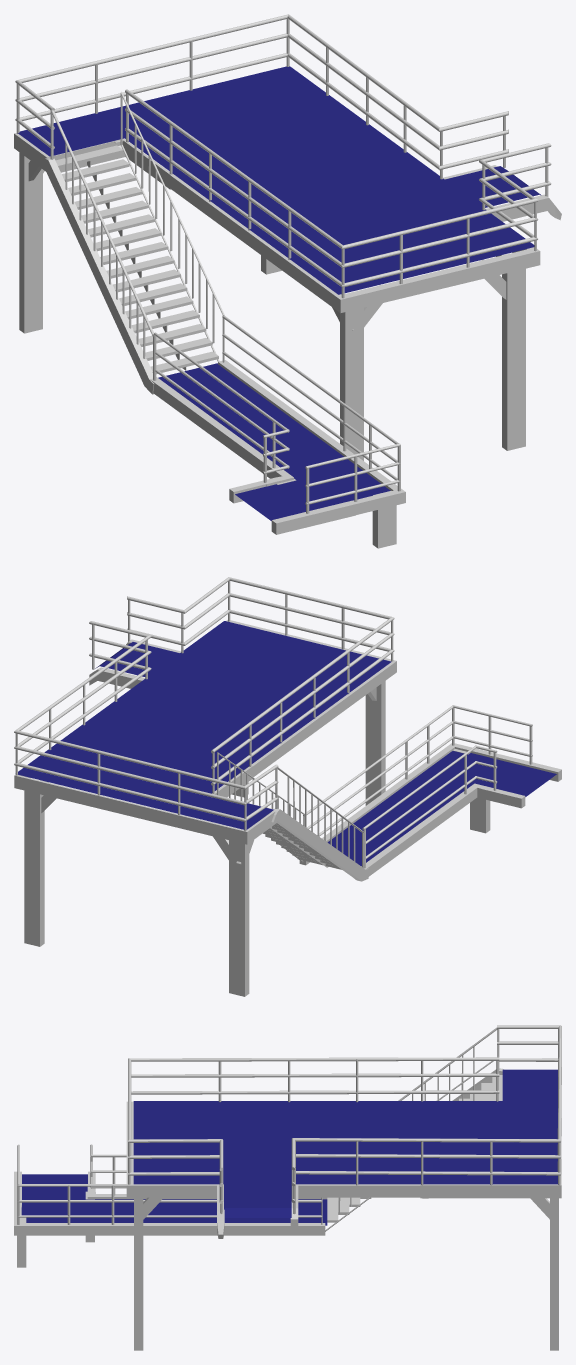
File: Stairs_platform_v2.FBX
3 views of the same model, one above another, from view 1: azimuth 30°, elevation 25°; view 2: azimuth 150°, elevation 25°; view 3: azimuth 270°, elevation 25° (orthographic). The views are drawn at different scales.
Parts seen in each view (by area): view 1: Group001, Line13128; view 2: Line13128, Group001; view 3: Group001, Line13128.
Boxes of the visible parts, bbox=[...] form: Group001: bbox=[18, 66, 541, 520]; Line13128: bbox=[14, 14, 561, 548]; Line13128: bbox=[14, 577, 561, 996]; Group001: bbox=[18, 621, 556, 869]; Group001: bbox=[21, 1069, 558, 1225]; Line13128: bbox=[14, 1025, 561, 1350].
Bounding box in the file's own units: 873 × 515 × 1188.
